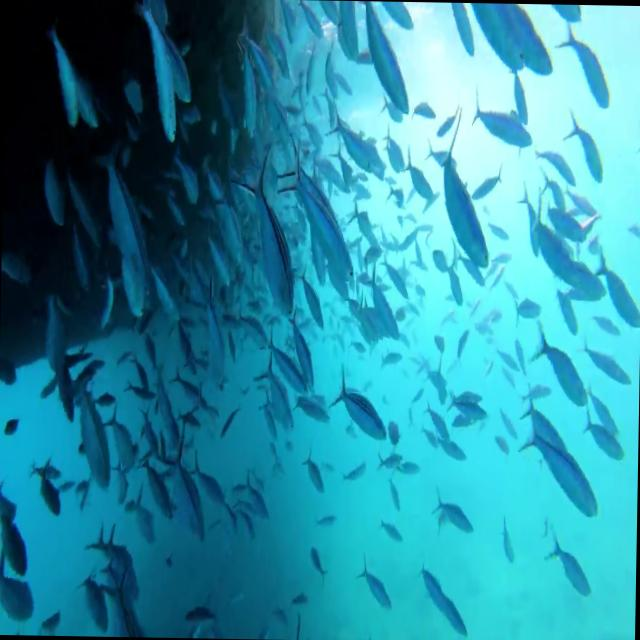fish: (274, 136, 360, 288), (94, 144, 152, 332), (519, 413, 600, 526), (244, 132, 291, 316), (433, 142, 492, 276), (461, 2, 554, 72), (360, 0, 410, 111), (159, 426, 207, 540), (558, 18, 612, 108), (532, 328, 590, 408), (326, 367, 384, 442), (255, 358, 298, 436), (472, 96, 532, 148), (429, 484, 475, 542), (568, 108, 602, 178), (354, 556, 392, 614), (31, 456, 63, 522)
